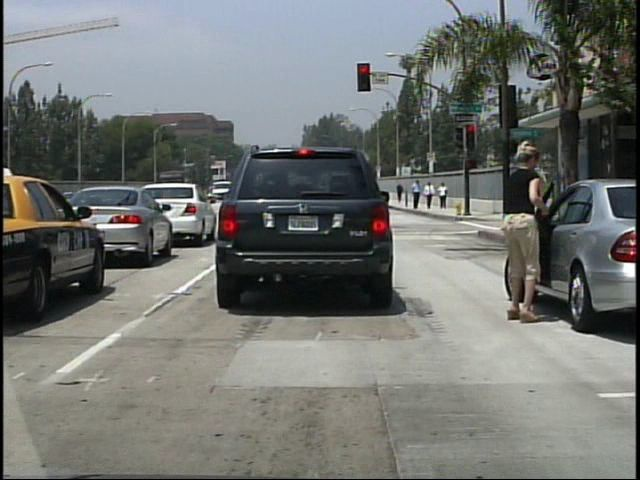person: (497, 140, 560, 323), (439, 181, 451, 209), (414, 178, 424, 209), (426, 181, 436, 210), (395, 182, 404, 203)
